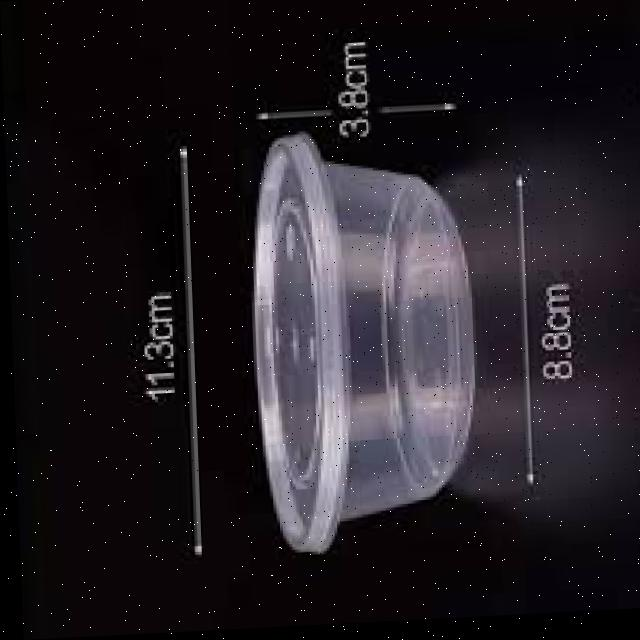disposable: (213, 113, 484, 562)
